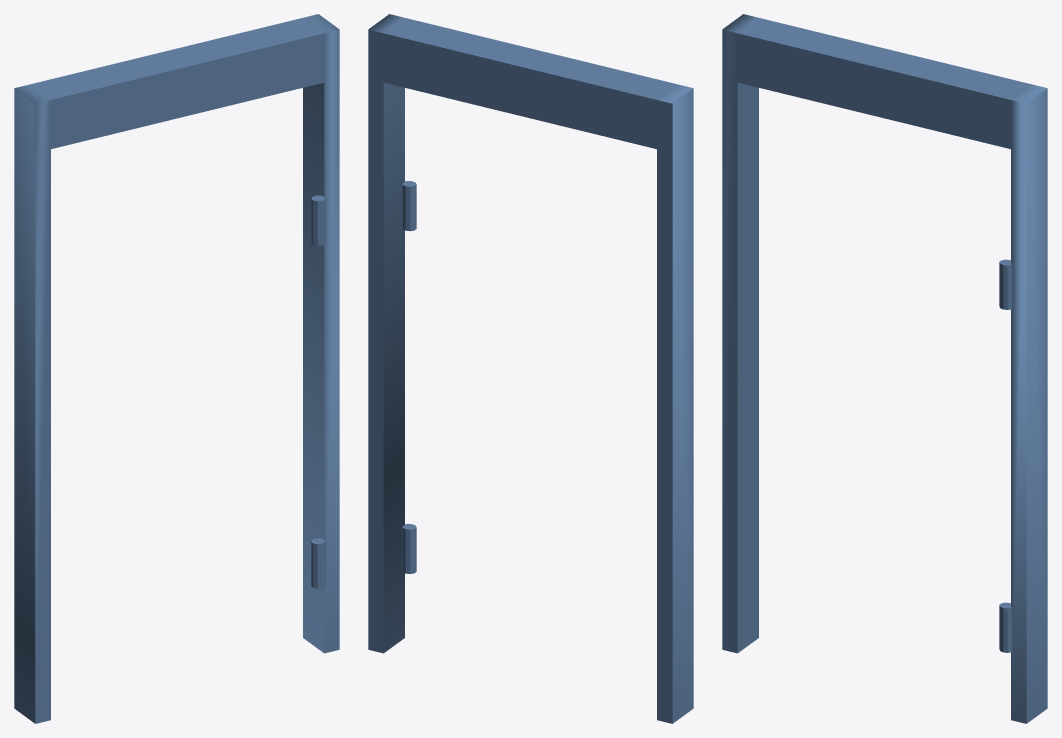
The model's file is Door_Frame_A.fbx.
The picture shows the model from 3 angles, left to right: view 1: azimuth 30°, elevation 25°; view 2: azimuth 150°, elevation 25°; view 3: azimuth 330°, elevation 25°; orthographic projection.
Parts seen in each view (by area): view 1: Door_Frame_A; view 2: Door_Frame_A; view 3: Door_Frame_A.
Boxes of the visible parts, x1=… form: Door_Frame_A: x1=14, y1=14, x2=339, y2=723; Door_Frame_A: x1=368, y1=14, x2=693, y2=723; Door_Frame_A: x1=722, y1=14, x2=1047, y2=723.
Size of the model in its own units: 1 by 1.95 by 0.1364.
1 material, 1 textured.
